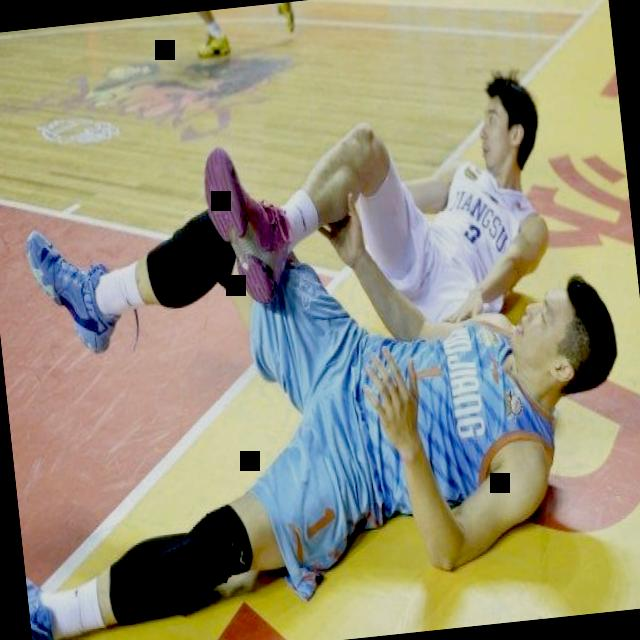Fall-Detected: (0, 131, 633, 640)
